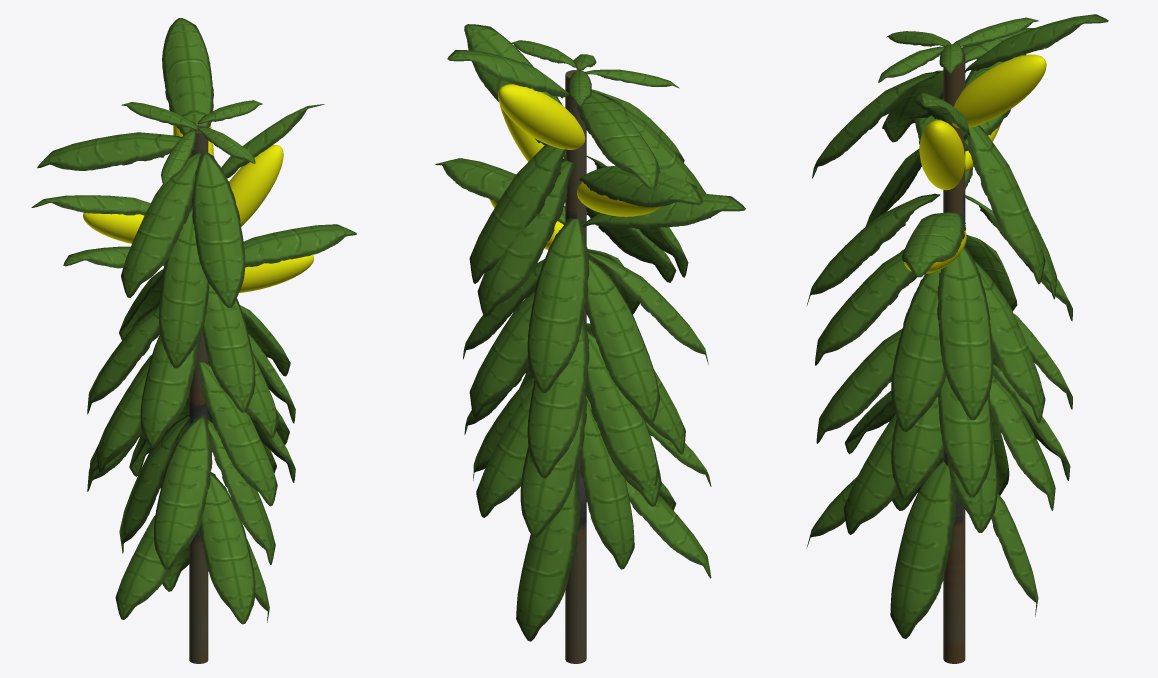
The model's file is corn.fbx.
3 views of the same model, side by side, from view 1: azimuth 30°, elevation 25°; view 2: azimuth 150°, elevation 25°; view 3: azimuth 270°, elevation 25° (orthographic). The views are drawn at different scales.
Parts seen in each view (by area): view 1: pSphere8; view 2: pSphere8; view 3: pSphere8.
Part boxes in pixels (x1,y1,x2,y2): pSphere8: (31,18,356,663); pSphere8: (435,24,745,663); pSphere8: (806,14,1108,663).
Size of the model in its own units: 436 by 762 by 354.
